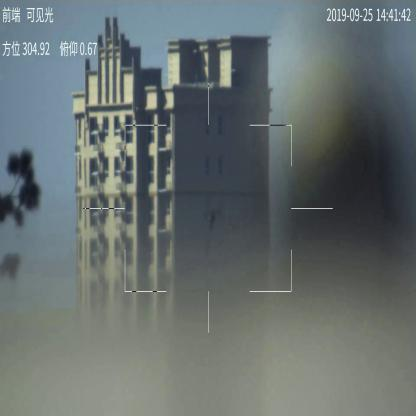uav: (203, 208, 223, 228)
